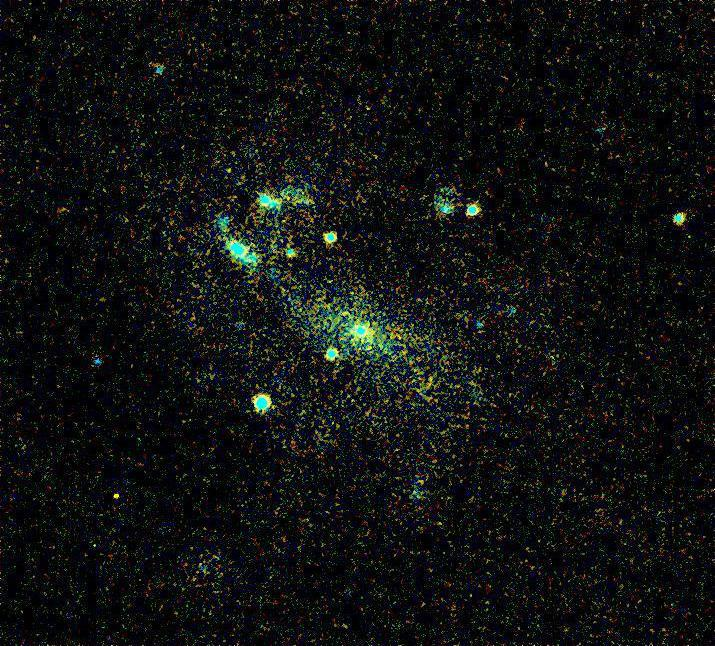star: (101, 483, 131, 513)
